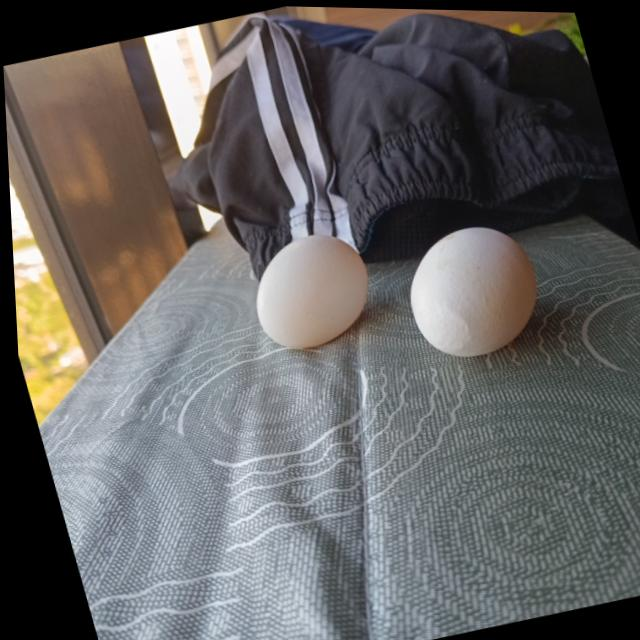egg: (388, 212, 552, 366), (236, 223, 380, 355)
